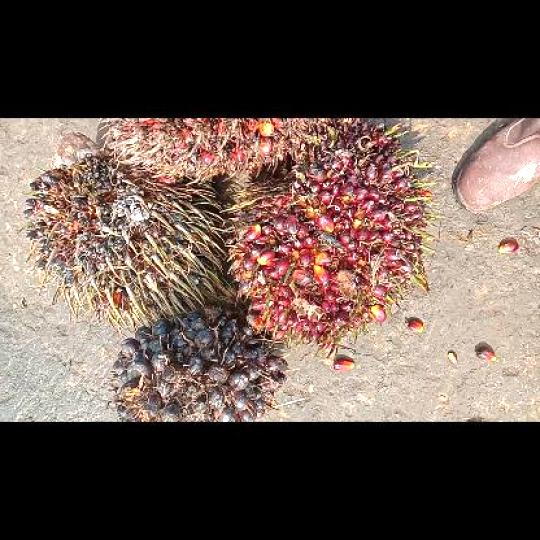masak: (230, 122, 432, 345)
terlalu masak: (97, 117, 355, 176)
